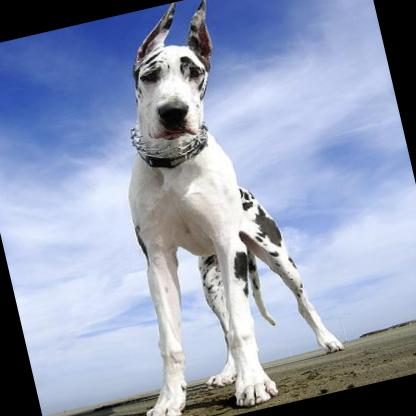Great_Dane: (49, 0, 353, 416)
